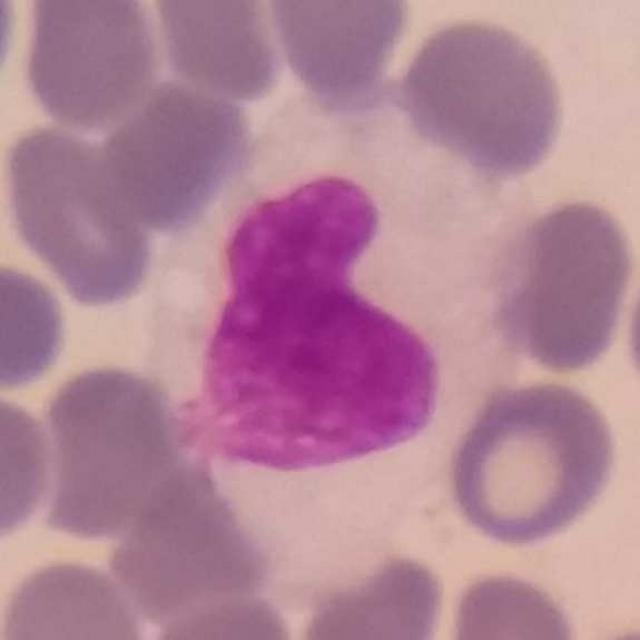Monocyte: (144, 93, 526, 549)
RBC: (442, 375, 623, 550), (0, 118, 161, 311), (26, 356, 192, 542), (392, 11, 572, 180), (481, 192, 639, 378), (107, 458, 284, 619), (87, 79, 260, 234), (14, 0, 165, 134), (260, 0, 418, 109), (142, 0, 292, 106), (291, 547, 452, 640), (0, 553, 151, 640), (438, 564, 586, 640), (0, 256, 73, 396), (0, 383, 59, 553), (132, 589, 303, 640)
